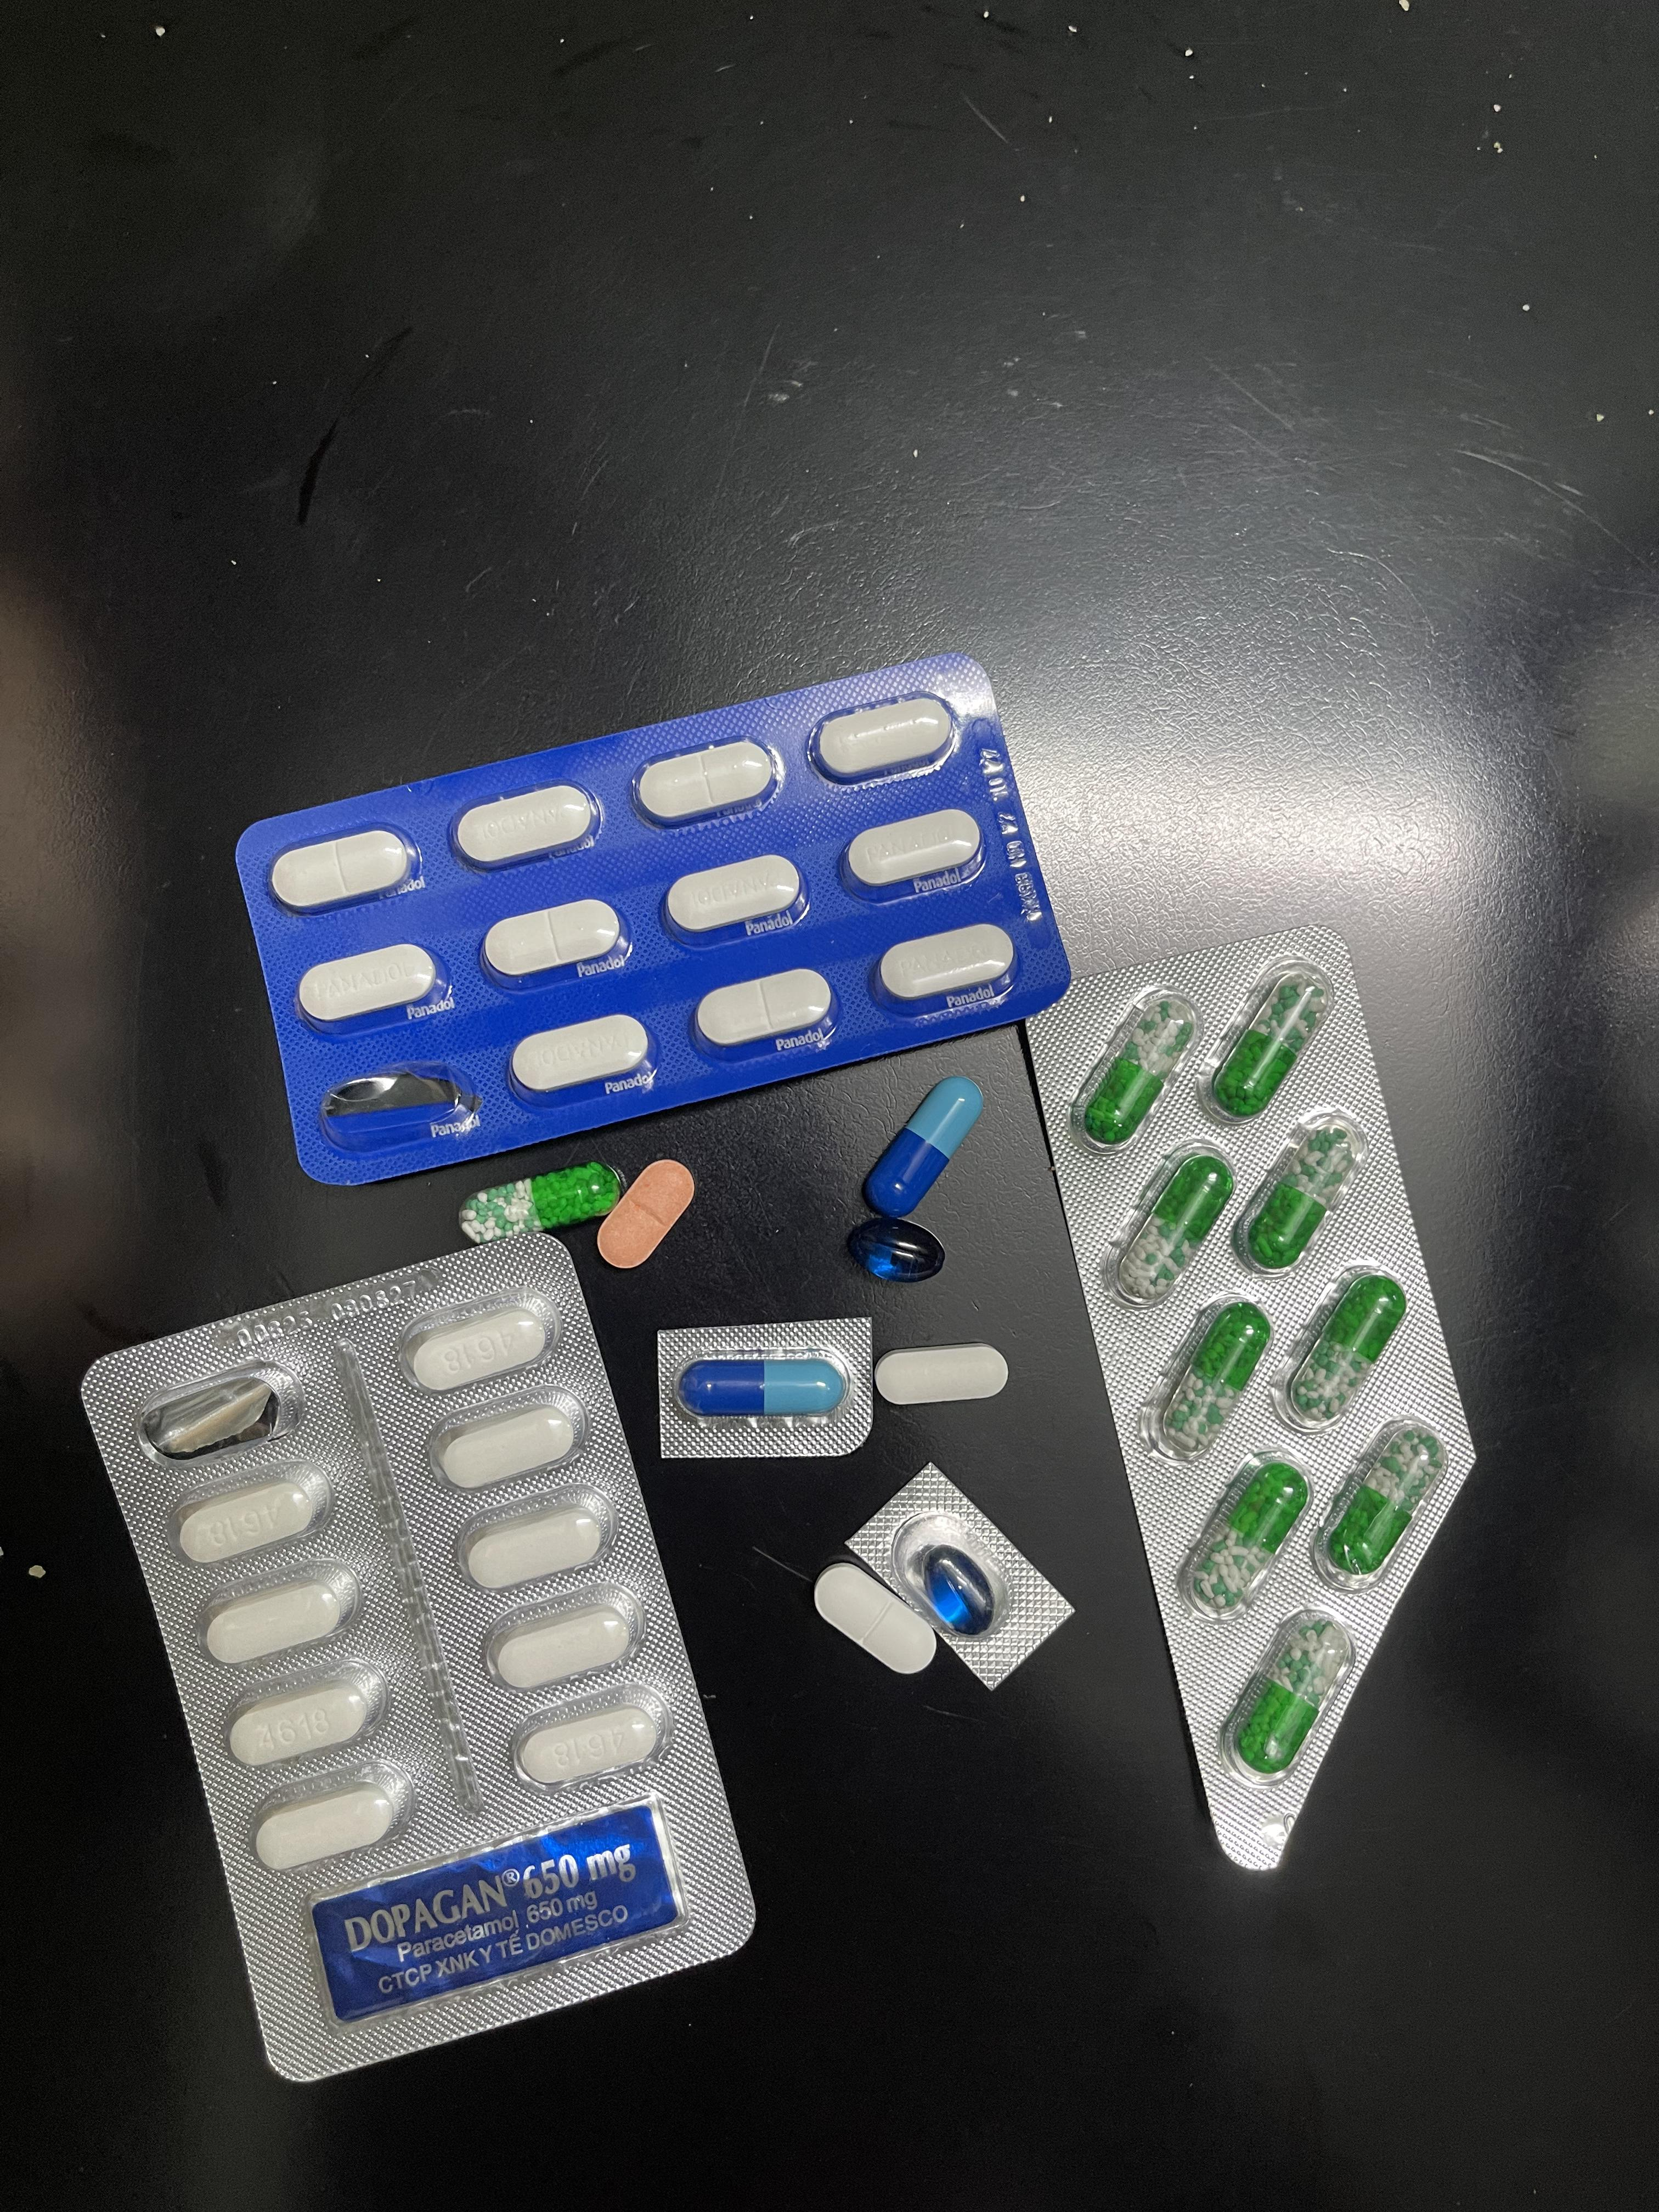Lincomyxin_500mg: (915, 1545, 997, 1635), (847, 1214, 948, 1284)
Loratadine_10mg: (594, 1158, 695, 1268)
Paracetamol_350mg: (814, 1557, 939, 1676), (298, 942, 444, 1029), (873, 923, 1018, 1010), (666, 853, 810, 939), (695, 967, 838, 1052), (455, 786, 598, 869), (814, 697, 957, 780), (843, 808, 983, 894), (272, 829, 413, 913), (484, 899, 626, 982), (511, 1012, 652, 1096), (636, 742, 775, 824)
Paracetamol_500mg: (200, 1555, 366, 1665), (167, 1456, 331, 1561), (484, 1581, 641, 1689), (225, 1660, 383, 1764), (429, 1392, 589, 1494), (514, 1686, 666, 1789), (254, 1782, 406, 1876), (462, 1503, 605, 1590), (404, 1305, 547, 1388), (873, 1345, 1009, 1407)
Paracetamol_650mg: (1216, 1609, 1356, 1784), (1309, 1421, 1450, 1588), (1232, 1111, 1373, 1270), (1173, 1454, 1307, 1618), (1096, 1141, 1229, 1306), (1202, 963, 1337, 1120), (1141, 1298, 1267, 1461), (1070, 991, 1195, 1148), (1286, 1273, 1408, 1423), (462, 1167, 627, 1242)
pill: (863, 1076, 986, 1217), (681, 1359, 840, 1420)
